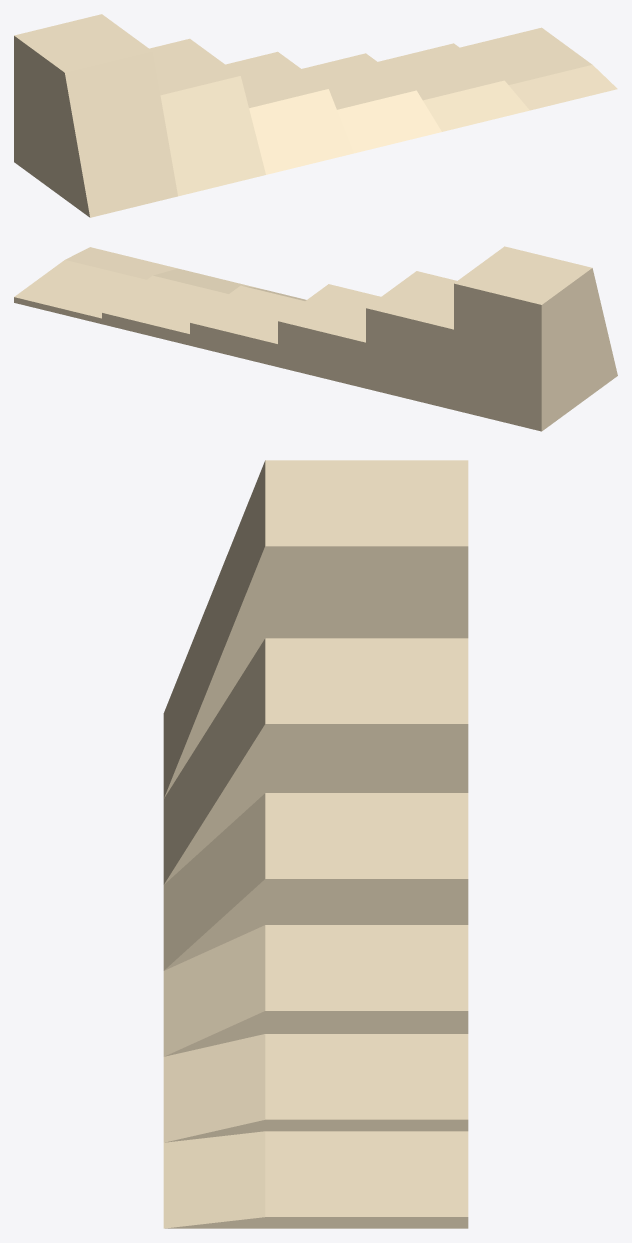
File: jumpRamp.fbx
The picture shows the model from 3 angles, top to bottom: view 1: azimuth 30°, elevation 25°; view 2: azimuth 150°, elevation 25°; view 3: azimuth 270°, elevation 25°; orthographic projection. The views are drawn at different scales.
Parts seen in each view (by area): view 1: jumpRamp; view 2: jumpRamp; view 3: jumpRamp.
Boxes of the visible parts, x1,y1,x2,y2 form: jumpRamp: [14, 14, 617, 217]; jumpRamp: [14, 246, 617, 431]; jumpRamp: [163, 460, 468, 1228].
Size of what is drawn, in the model's own units: 24 by 5.5 by 6.
